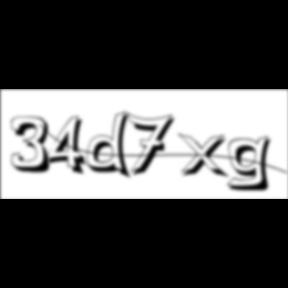3: (11, 116, 57, 176)
4: (46, 115, 92, 179)
7: (126, 111, 180, 179)
d: (87, 110, 137, 182)
g: (227, 134, 279, 194)
x: (178, 132, 233, 181)
